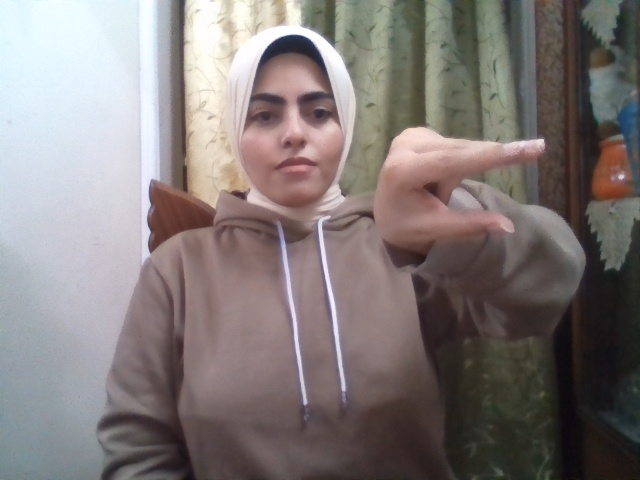no: (374, 126, 547, 246)
